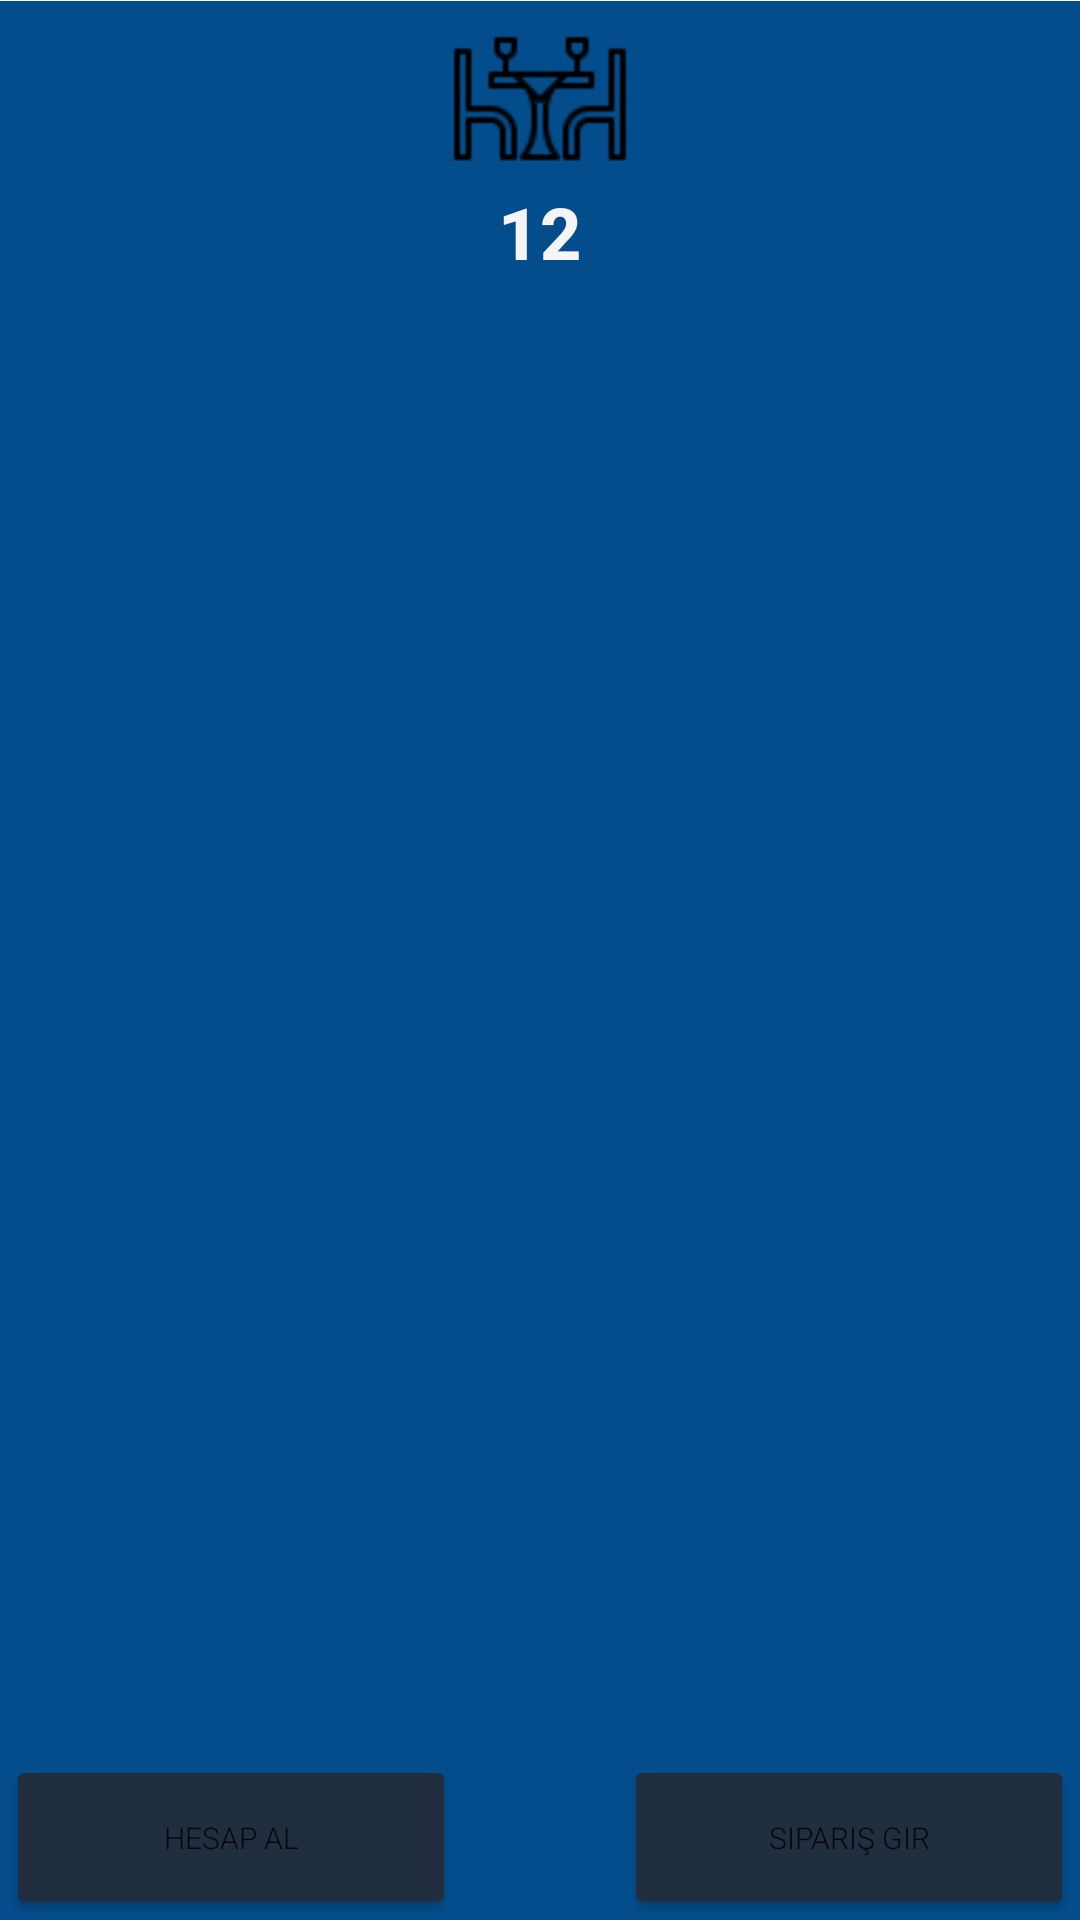

Where icons sit on this 1080x1920 app screen, as Rect(x1, y1, x2, y2):
masa: Rect(453, 36, 627, 161)
